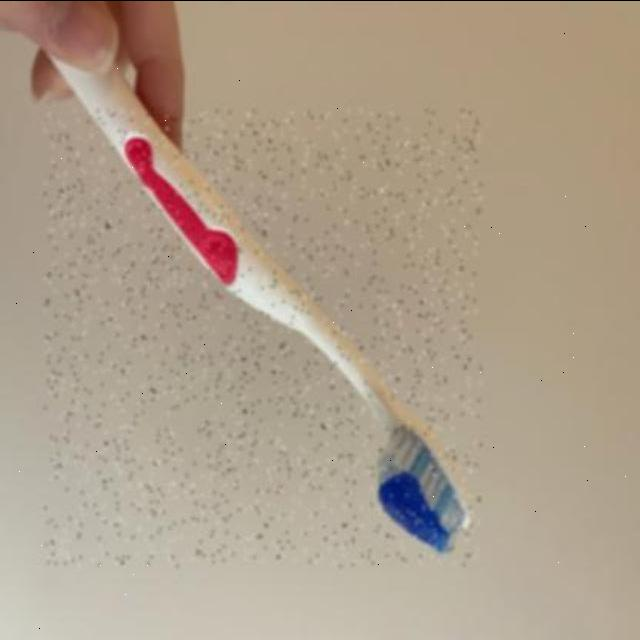toothbrush: (45, 110, 481, 566)
